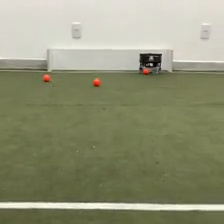ball: (42, 72, 51, 82), (92, 77, 101, 86), (142, 66, 150, 74)
goal: (45, 46, 174, 74)
robot: (138, 51, 162, 74)
